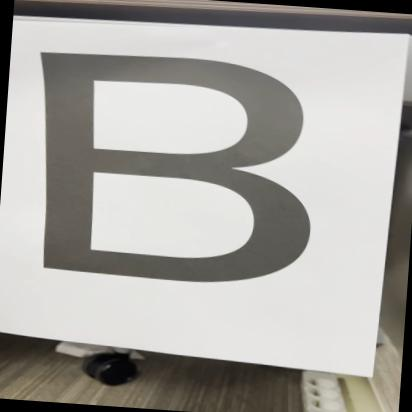seat: (8, 39, 354, 313)
